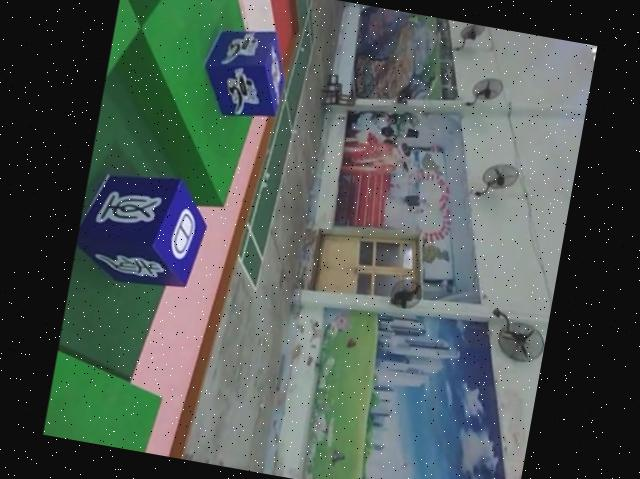R1 Blue: (196, 15, 294, 122)
R2 Fake Blue: (71, 163, 212, 296)
